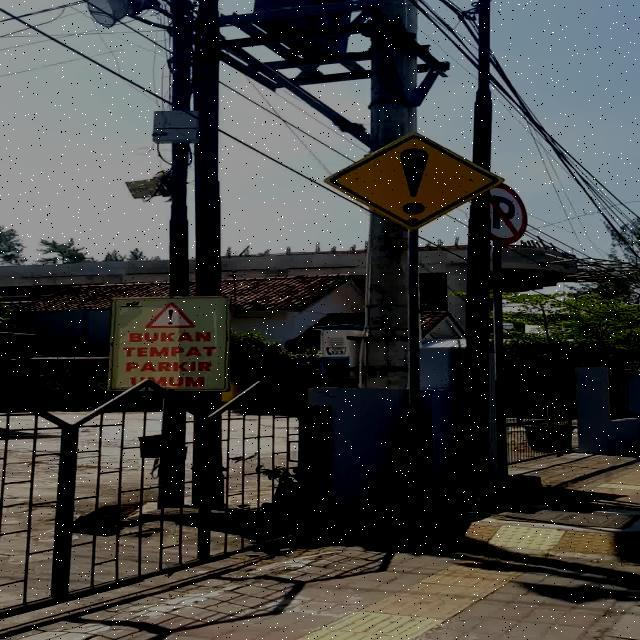Hati-Hati: (323, 132, 504, 230)
